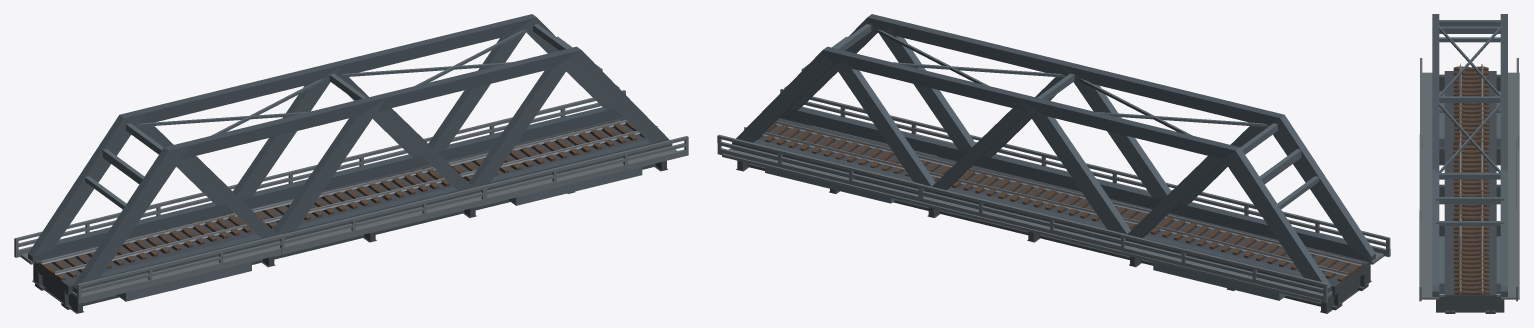
File: truss_bridge.glb
3 renders of one model, left to right at view 1: azimuth 30°, elevation 25°; view 2: azimuth 150°, elevation 25°; view 3: azimuth 270°, elevation 25°, orthographic. The views are drawn at different scales.
Parts seen in each view (by area): view 1: bridge_chords, bridge_web, bridge_walkway, bridge_floor, bridge_bracing, bridge_ties, bridge_rails; view 2: bridge_chords, bridge_web, bridge_walkway, bridge_floor, bridge_ties, bridge_bracing, bridge_rails; view 3: bridge_ties, bridge_walkway, bridge_floor, bridge_bracing, bridge_chords, bridge_web, bridge_rails.
Boxes of the visible parts, x1,y1,x2,y2 form: bridge_chords: [28, 14, 672, 293]; bridge_web: [28, 17, 667, 288]; bridge_walkway: [14, 90, 688, 303]; bridge_floor: [32, 117, 667, 313]; bridge_bracing: [82, 24, 642, 301]; bridge_ties: [38, 118, 644, 280]; bridge_rails: [41, 119, 657, 274]; bridge_chords: [732, 14, 1375, 293]; bridge_web: [736, 20, 1375, 288]; bridge_walkway: [717, 89, 1390, 302]; bridge_floor: [736, 118, 1371, 313]; bridge_ties: [758, 120, 1364, 281]; bridge_bracing: [765, 24, 1321, 300]; bridge_rails: [744, 121, 1362, 275]; bridge_ties: [1453, 66, 1489, 294]; bridge_walkway: [1419, 58, 1519, 301]; bridge_floor: [1436, 71, 1504, 313]; bridge_bracing: [1436, 20, 1504, 293]; bridge_chords: [1432, 14, 1507, 296]; bridge_web: [1432, 169, 1507, 286]; bridge_rails: [1459, 63, 1483, 293].
Size of the model in its own units: 42.06 by 9.44 by 7.79.
